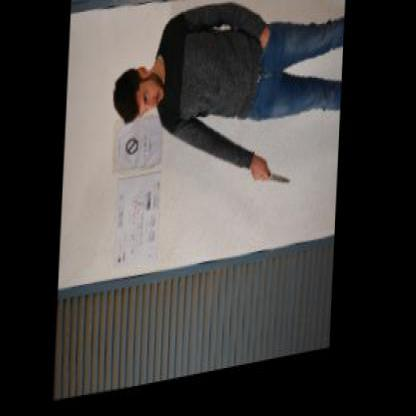knife: (260, 170, 295, 199)
